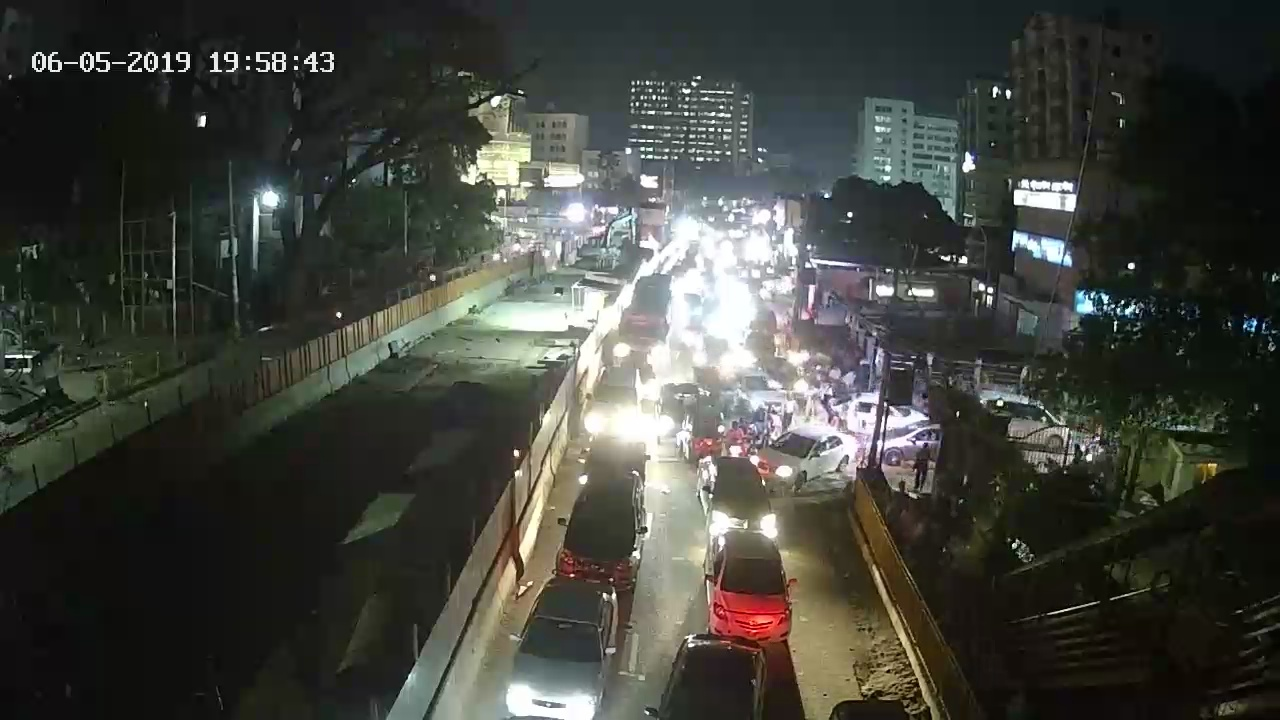fast_in: (501, 577, 627, 718), (563, 462, 651, 593), (701, 529, 797, 648), (686, 453, 789, 538), (746, 420, 860, 495), (576, 363, 655, 436), (721, 419, 752, 459)
